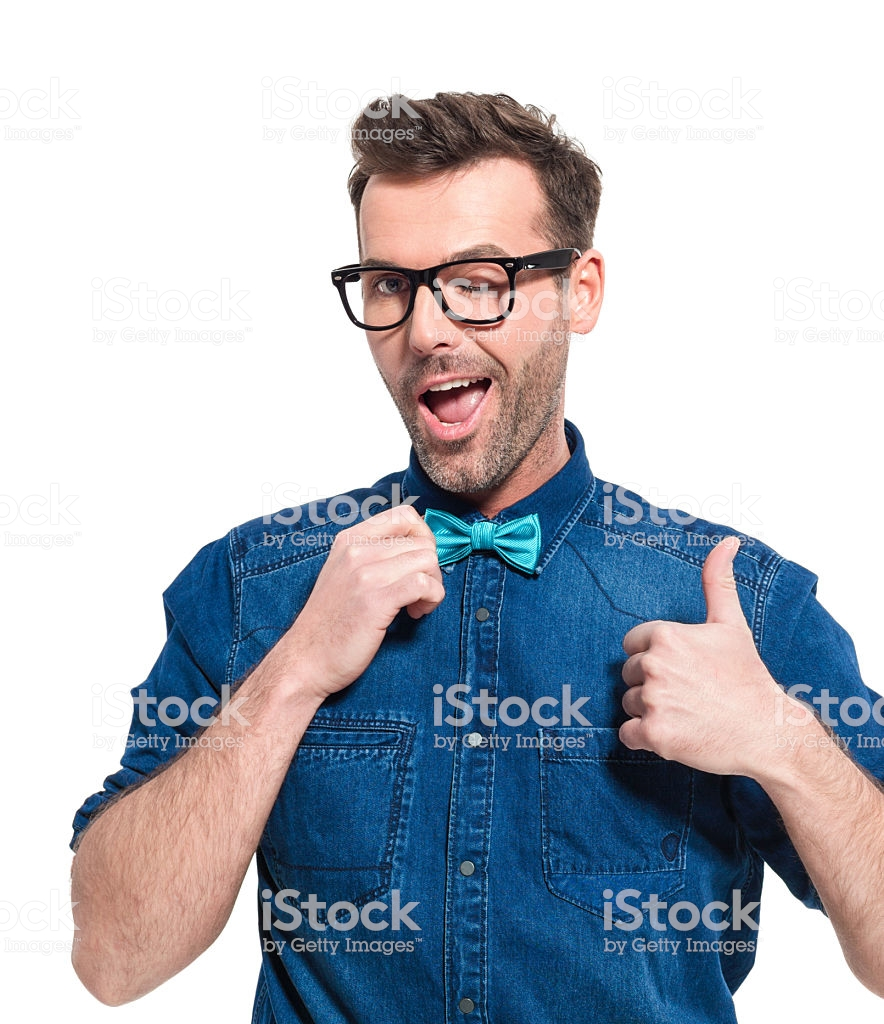thumbsup: (618, 536, 747, 772)
